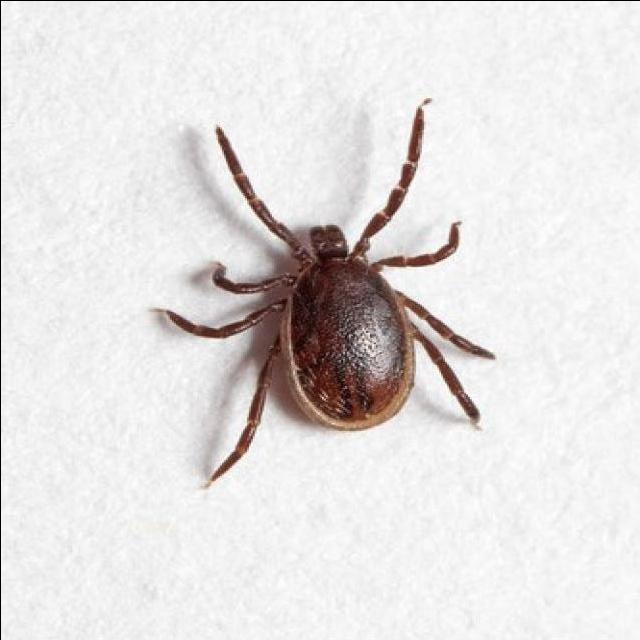Ixodes Ricinus-M: (150, 98, 498, 490)
